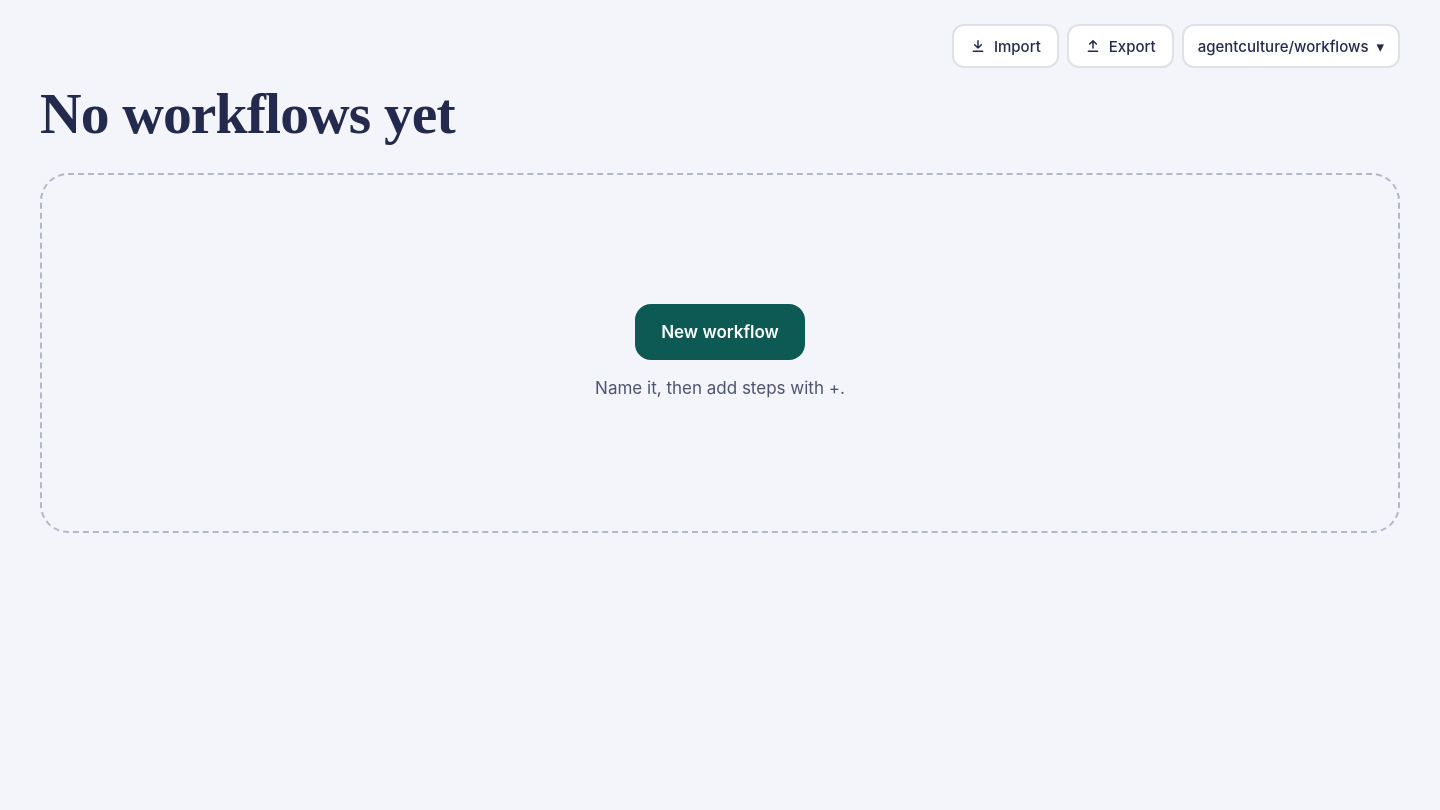
Workflows tab: New workflow (empty state) › Enter creates a minimal workflow via POST /workflows and opens it on the canvas
Click the button "New workflow".
click(720, 332)  # box [635,304,805,360]
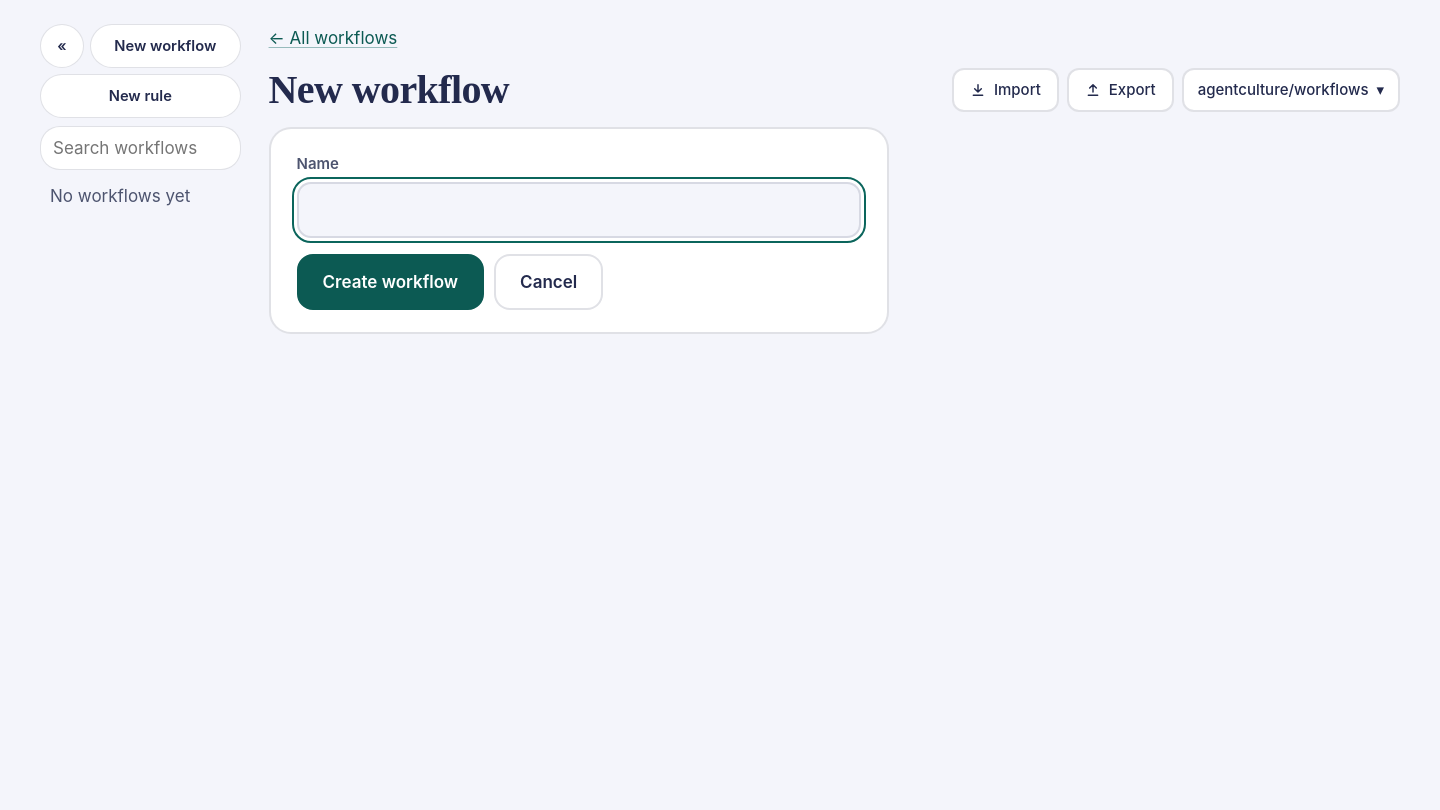
Type "Triage issues" into the field labelled "Name".
click(579, 210); type("Triage issues")  # box [297,182,861,238]
Then press Enter
(page scrolled)
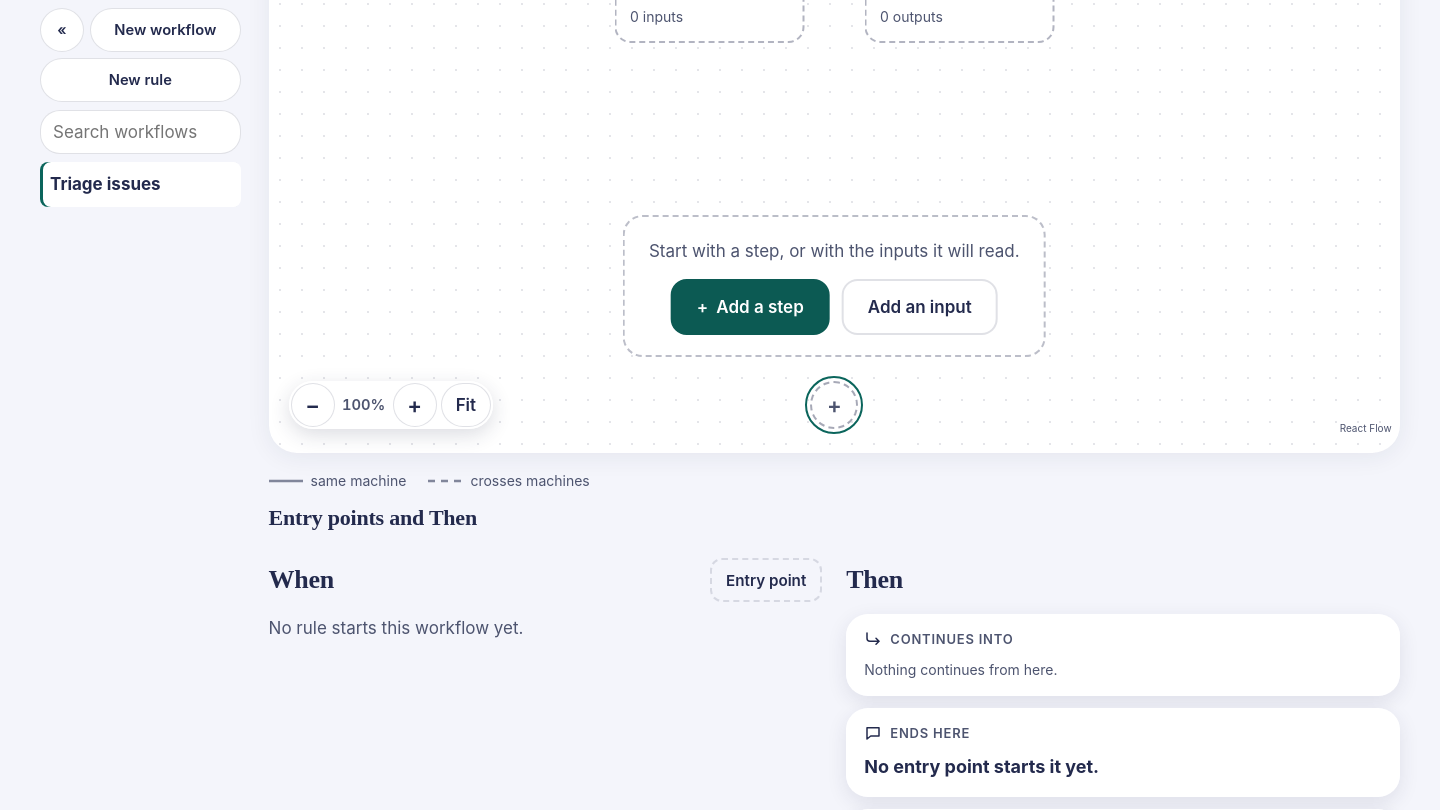
# Straight into editing: the step + has focus and adds the first step.
Click the button named "Add step".
click(834, 405)  # box [810,381,858,429]
(page scrolled)
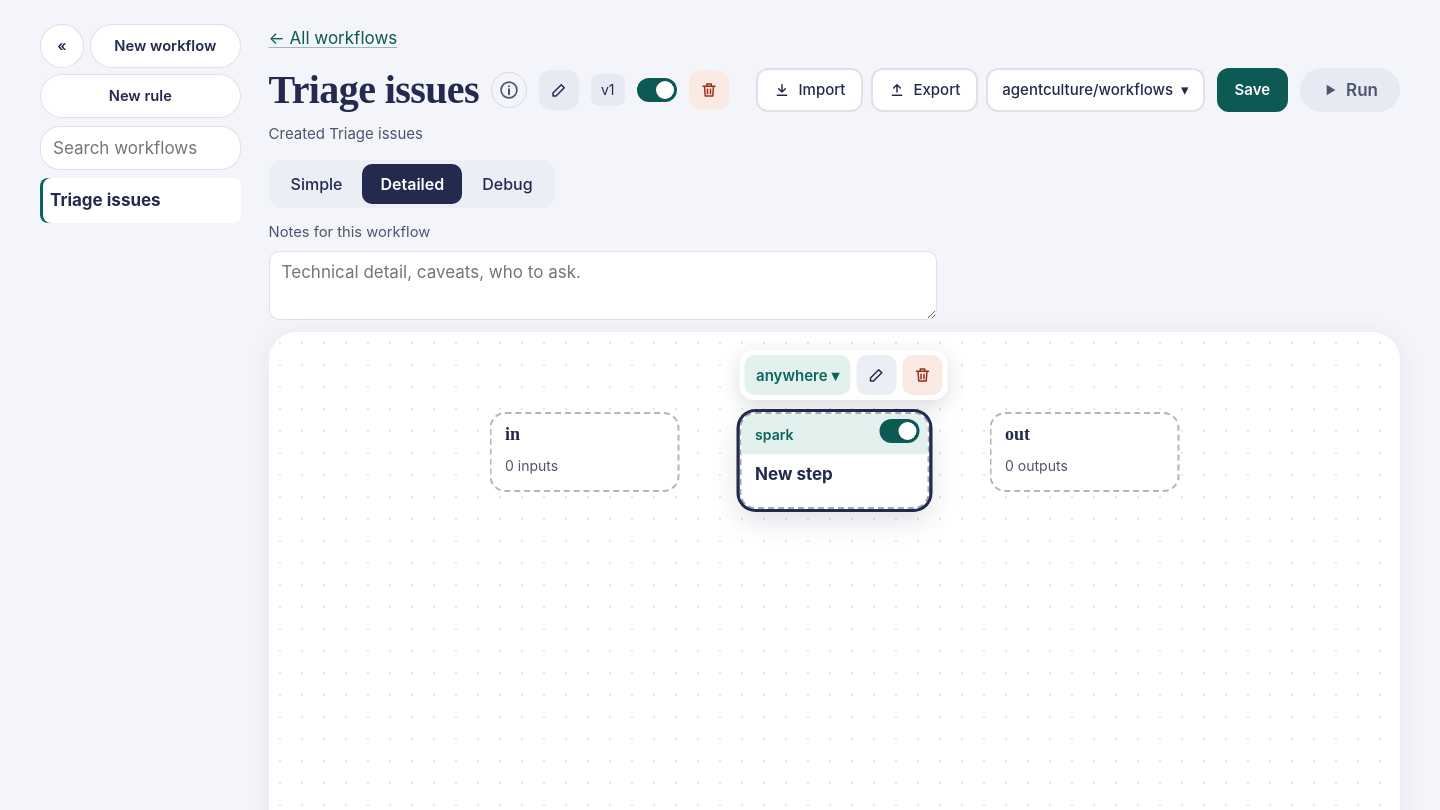
Check: the button "Save" is shown, box [1217,68,1288,112]
